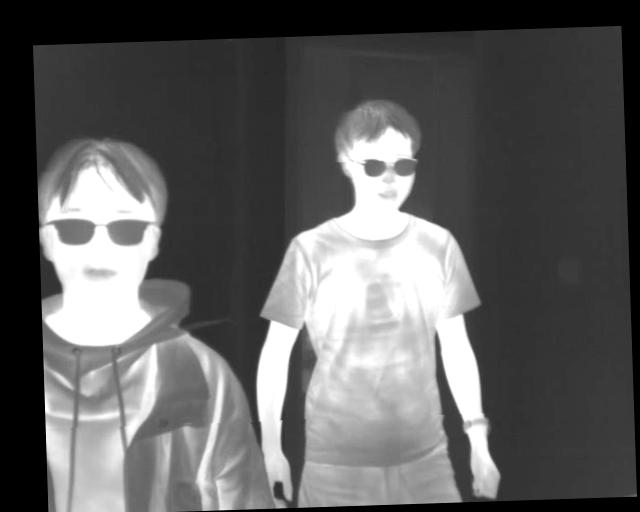face: (36, 132, 168, 311), (333, 97, 423, 213)
